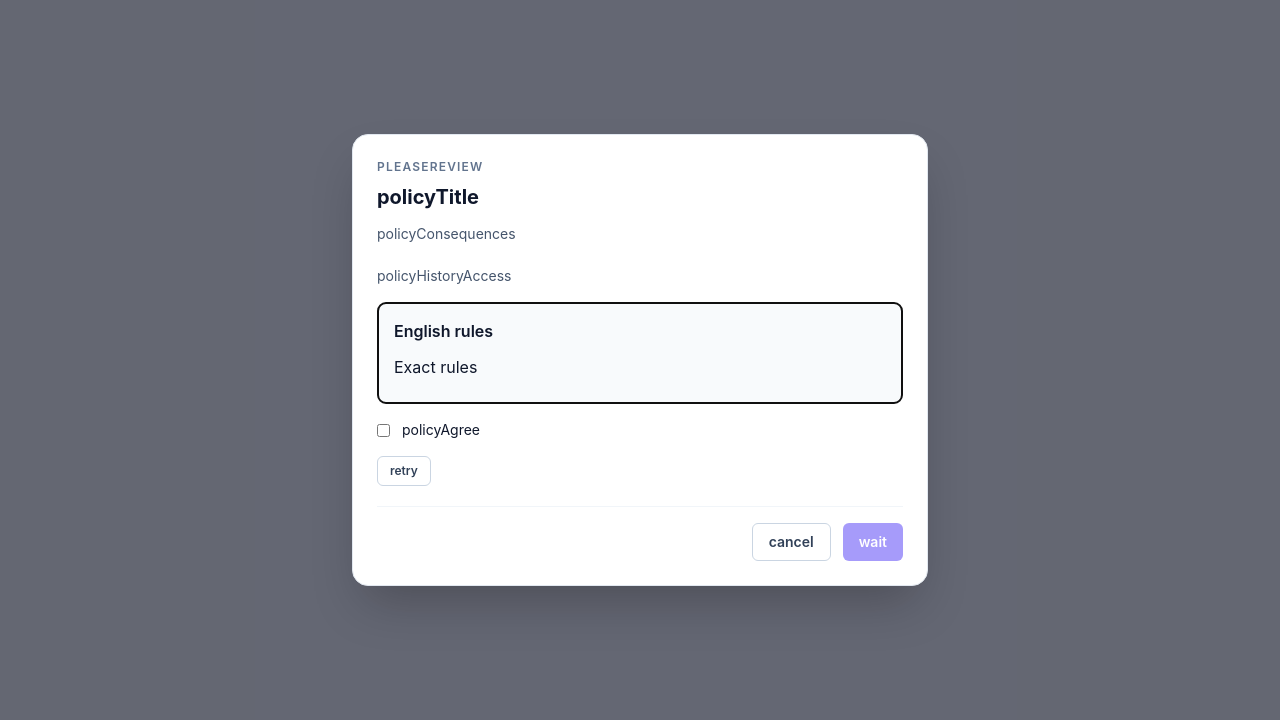
prompts immediately on / and permits cancellation without accepting
Check: the dialog "policyTitle" is shown, box top-left (352, 134), bottom-right (928, 586)
Click the button "cancel".
click(791, 542)  # box top-left (752, 523), bottom-right (831, 561)
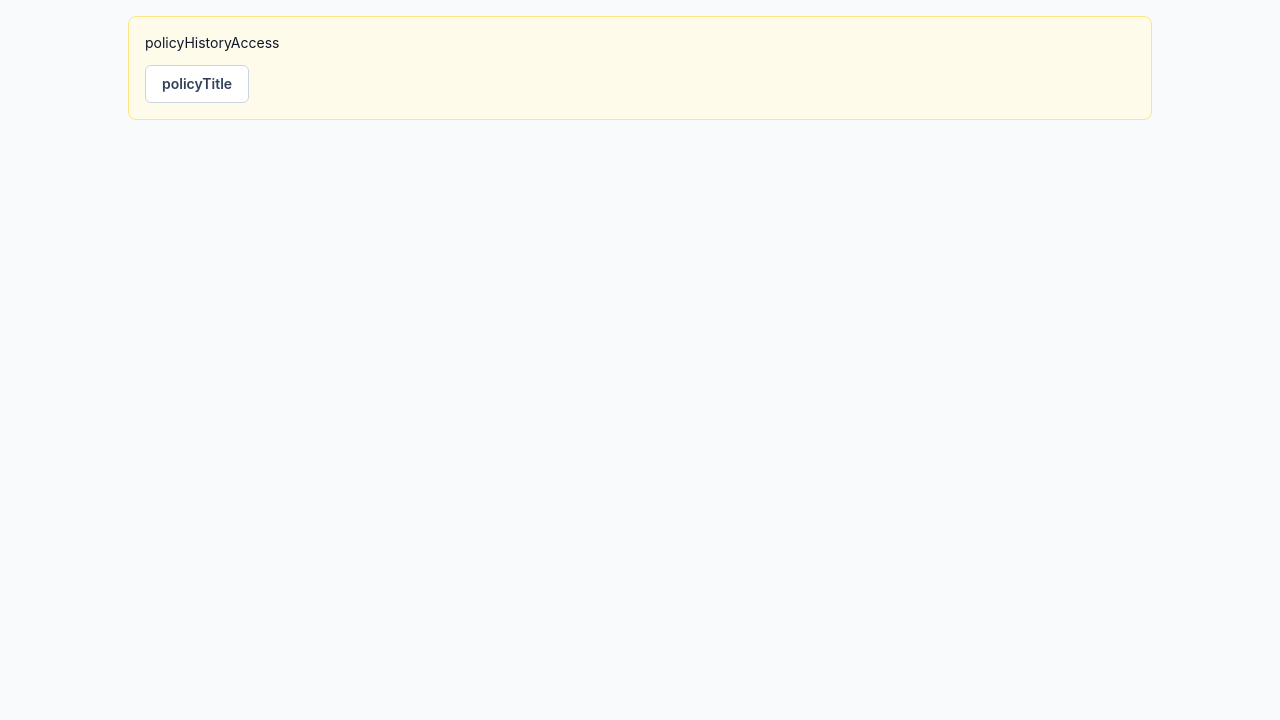
Check: the dialog is gone
Check: the message "policyHistoryAccess policyTitle" is shown, box top-left (128, 16), bottom-right (1152, 120)
